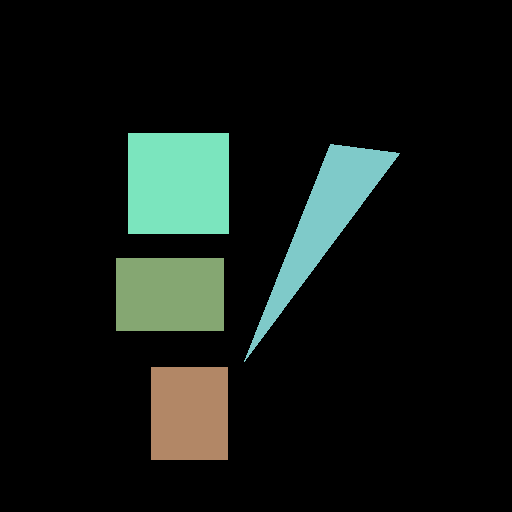rectangle: (116, 258, 223, 330), (151, 367, 227, 459)
square: (128, 133, 228, 233)
triangle: (244, 144, 399, 361)
